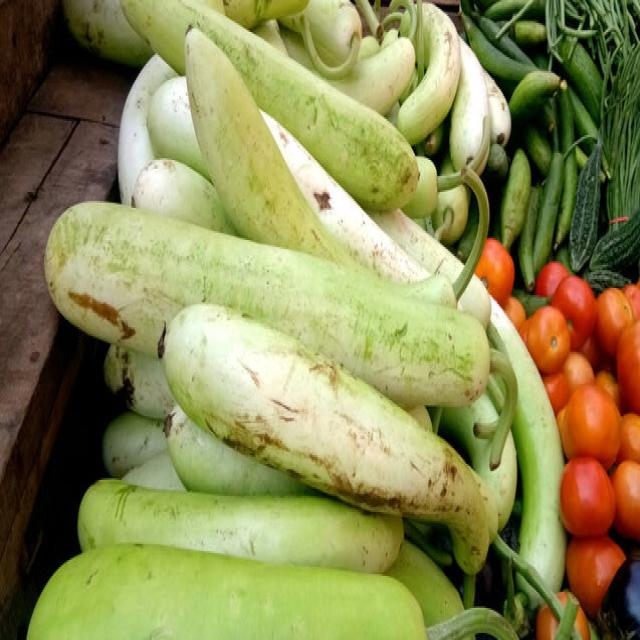Bottle Gourd: (44, 197, 492, 409), (160, 298, 495, 572), (119, 0, 420, 212), (25, 540, 428, 636), (76, 476, 404, 574)
Radish: (181, 23, 456, 304)
